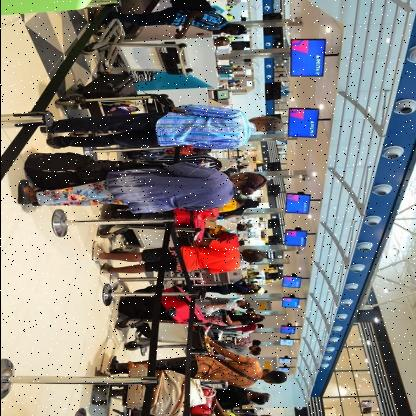airport-trolley: (56, 73, 168, 137), (82, 18, 194, 80), (96, 210, 206, 252), (112, 314, 210, 351)
